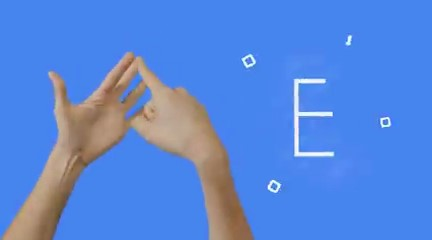E: (36, 44, 232, 173)
